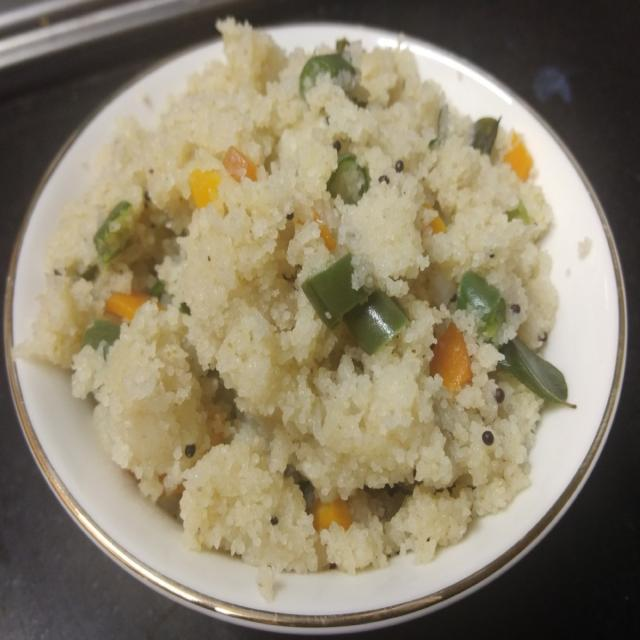upma: (14, 5, 578, 592)
